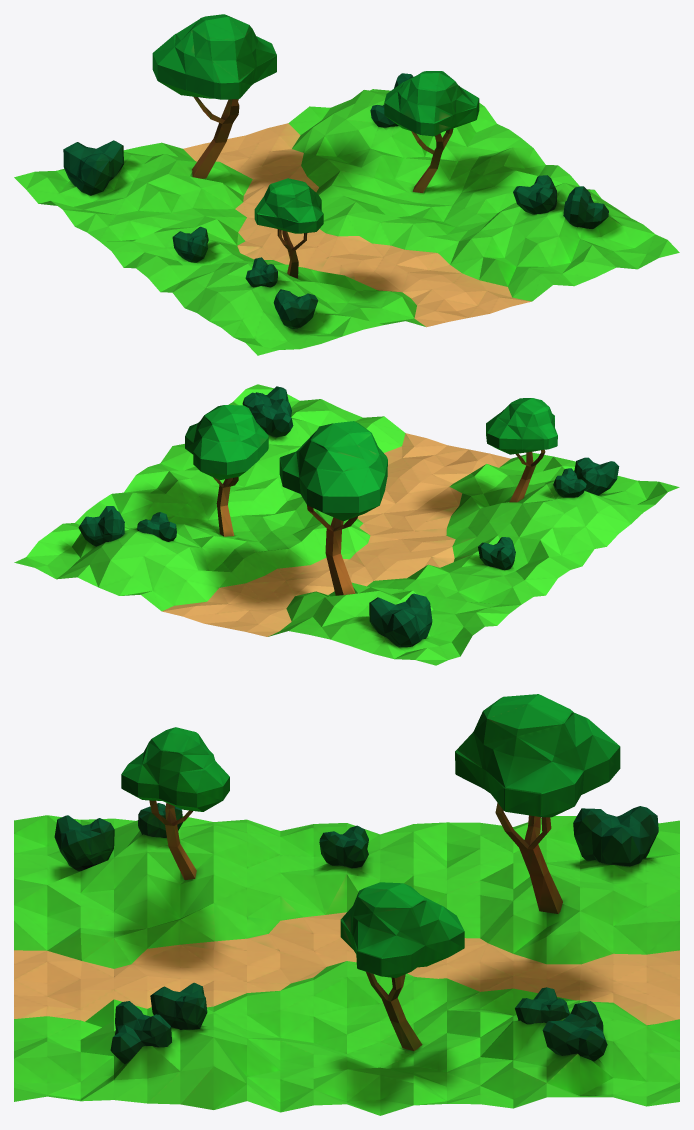
The picture shows the model from 3 angles, top to bottom: view 1: azimuth 30°, elevation 25°; view 2: azimuth 150°, elevation 25°; view 3: azimuth 270°, elevation 25°; orthographic projection. The views are drawn at different scales.
Visible parts, largest first — view 1: Mball.011; view 2: Mball.011; view 3: Mball.011.
Boxes of the visible parts, x1,y1,x2,y2 form: Mball.011: (14,14,679,355); Mball.011: (14,384,679,665); Mball.011: (14,694,679,1115).
Bounding box in the file's own units: 10 × 4.1 × 10.
5 materials, 5 textured.
